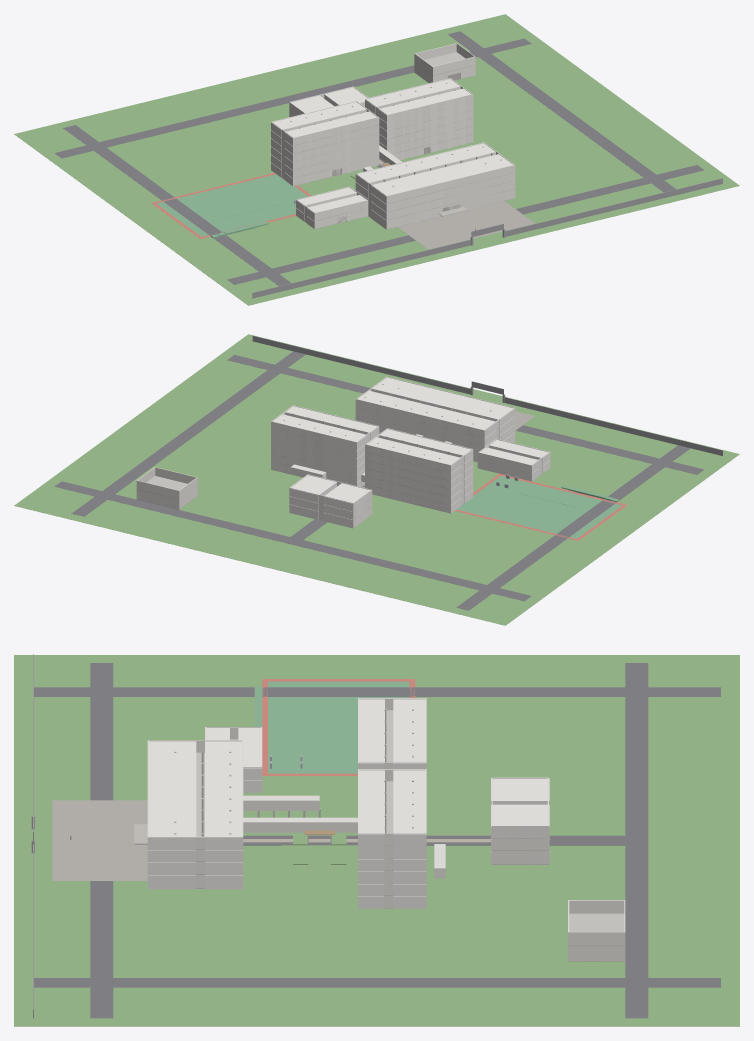
The model's file is hospital.glb.
3 views of the same model, one above another, from view 1: azimuth 30°, elevation 25°; view 2: azimuth 150°, elevation 25°; view 3: azimuth 270°, elevation 25° (orthographic). The views are drawn at different scales.
Parts seen in each view (by area): view 1: Ground_Grass, Field_Base, Road_N, EntryPlaza, Road_E, Road_W, Road_S, Ext_OP_S_R, Ext_IPA_S_L, Ext_OP_S_L, Ext_IPA_S_R, Fence_S_L (+6 smaller); view 2: Ground_Grass, Road_N, Field_Base, Ext_IPA_N, Road_E, Road_W, Road_S, Ext_IPB_N, Fence_S_R, Fence_S_L, Ext_OP_N, Ext_ADMIN_N (+2 smaller); view 3: Ground_Grass, Road_N, EntryPlaza, Road_S, Road_E, Road_W, Field_Base, Garden_Central, Ext_REHAB_E, Road_Center, Corridor_OP_to_REHAB, Basketball_Court (+12 smaller).
Part boxes in pixels (x1=…): Ground_Grass: x1=14, y1=14, x2=739, y2=305; Field_Base: x1=156, y1=174, x2=308, y2=236; Road_N: x1=54, y1=38, x2=531, y2=158; EntryPlaza: x1=398, y1=201, x2=534, y2=249; Road_E: x1=448, y1=31, x2=676, y2=192; Road_W: x1=63, y1=125, x2=291, y2=286; Road_S: x1=227, y1=165, x2=703, y2=284; Ext_OP_S_R: x1=461, y1=164, x2=514, y2=209; Ext_IPA_S_L: x1=293, y1=129, x2=329, y2=185; Ext_OP_S_L: x1=386, y1=183, x2=440, y2=228; Ext_IPA_S_R: x1=342, y1=117, x2=378, y2=173; Fence_S_L: x1=252, y1=239, x2=471, y2=298; Ground_Grass: x1=14, y1=334, x2=739, y2=625; Road_N: x1=54, y1=481, x2=531, y2=601; Field_Base: x1=457, y1=476, x2=622, y2=538; Ext_IPA_N: x1=365, y1=444, x2=450, y2=511; Road_E: x1=71, y1=351, x2=305, y2=516; Road_W: x1=456, y1=445, x2=690, y2=610; Road_S: x1=227, y1=355, x2=704, y2=474; Ext_IPB_N: x1=271, y1=421, x2=356, y2=484; Fence_S_R: x1=252, y1=335, x2=470, y2=394; Fence_S_L: x1=504, y1=397, x2=722, y2=455; Ext_OP_N: x1=356, y1=399, x2=484, y2=454; Ext_ADMIN_N: x1=478, y1=452, x2=531, y2=481; Ground_Grass: x1=14, y1=655, x2=739, y2=1026; Road_N: x1=625, y1=663, x2=648, y2=1018; EntryPlaza: x1=52, y1=800, x2=147, y2=880; Road_S: x1=90, y1=663, x2=113, y2=1018; Road_E: x1=34, y1=978, x2=720, y2=987; Road_W: x1=34, y1=687, x2=720, y2=696; Field_Base: x1=268, y1=681, x2=409, y2=773; Garden_Central: x1=281, y1=808, x2=357, y2=872; Ext_REHAB_E: x1=492, y1=825, x2=548, y2=864; Road_Center: x1=243, y1=835, x2=625, y2=845; Corridor_OP_to_REHAB: x1=243, y1=817, x2=357, y2=832; Basketball_Court: x1=310, y1=705, x2=357, y2=750.
Size of what is drawn, in the model's own units: 230 by 22.4 by 190.
